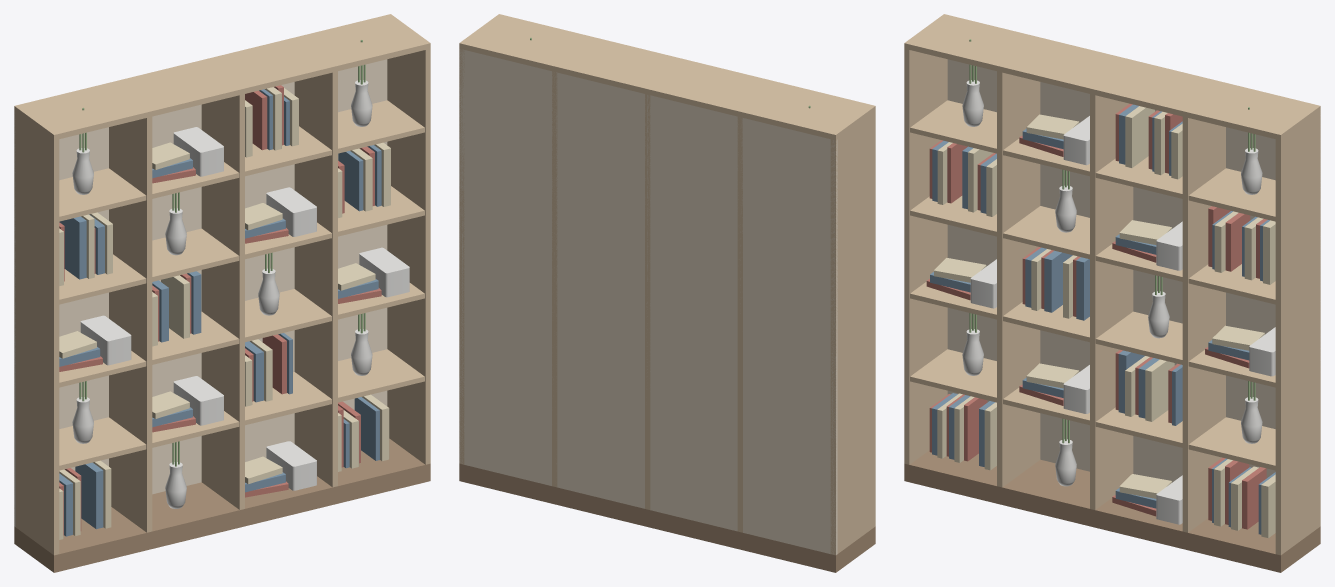
The picture shows the model from 3 angles, left to right: view 1: azimuth 30°, elevation 25°; view 2: azimuth 150°, elevation 25°; view 3: azimuth 330°, elevation 25°; orthographic projection.
Visible parts, largest first — view 1: Kệ sách Dài=1800; Sâu=330; view 2: Kệ sách Dài=1800; Sâu=330; view 3: Kệ sách Dài=1800; Sâu=330.
Boxes of the visible parts, x1,y1,x2,y2 form: Kệ sách Dài=1800; Sâu=330: (14,14,430,572); Kệ sách Dài=1800; Sâu=330: (459,14,875,572); Kệ sách Dài=1800; Sâu=330: (904,14,1320,572).
Bounding box in the file's own units: 1.8 × 2.01 × 0.33.
